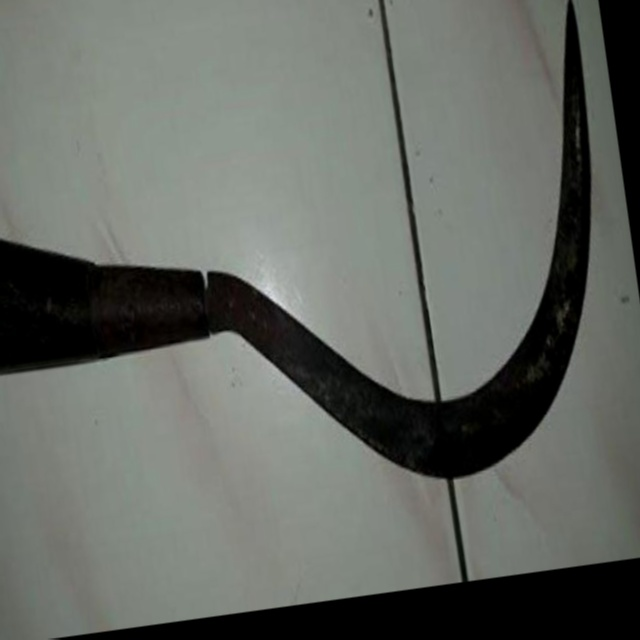Sharp-Object: (0, 0, 639, 545)
